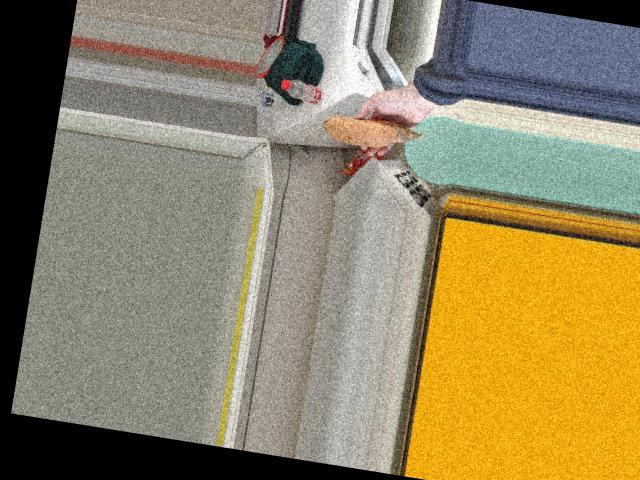sweet_potato: (313, 104, 404, 151)
